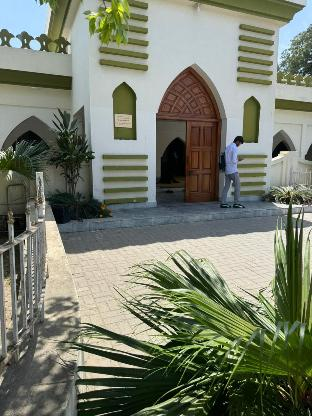bag: (214, 150, 228, 173)
door: (155, 60, 223, 209)
person: (218, 133, 250, 212)
